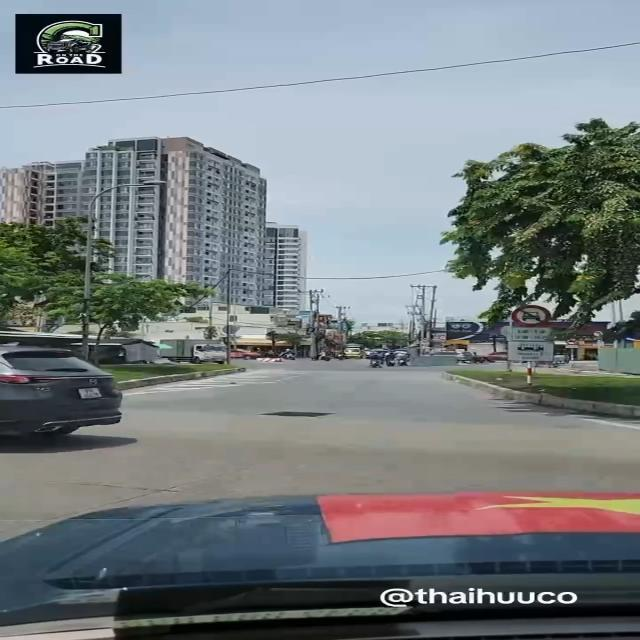103a-cam-oto: (510, 303, 552, 327)
